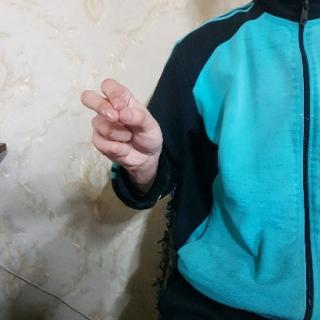QAAF: (76, 76, 169, 184)
